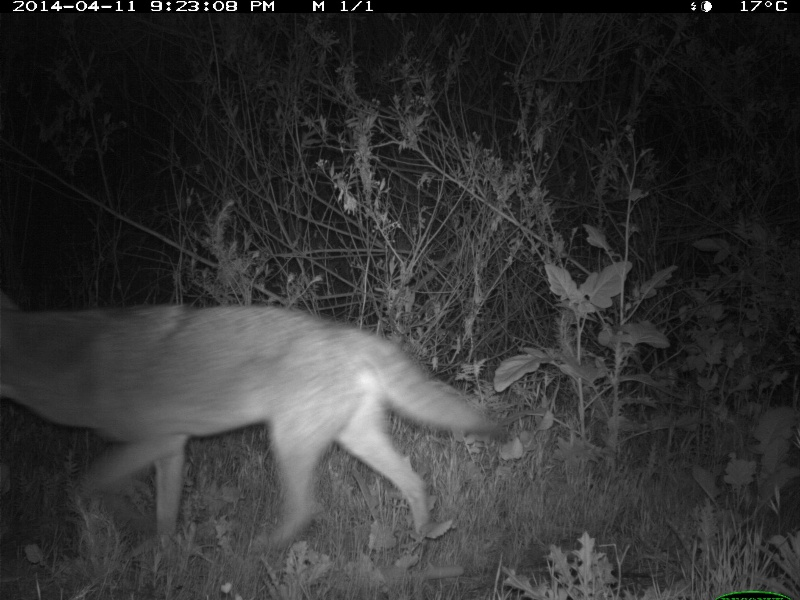coyote: (1, 266, 514, 570)
